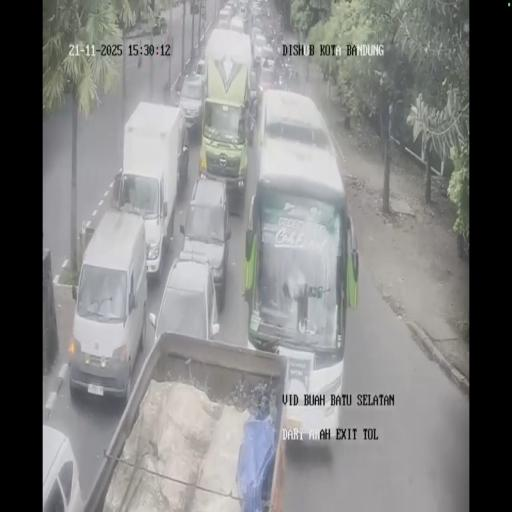car: (178, 176, 231, 308), (248, 68, 260, 130), (192, 58, 208, 88), (249, 0, 265, 23), (260, 44, 275, 68), (250, 26, 264, 50), (230, 14, 244, 34), (218, 14, 230, 29), (239, 3, 246, 13)
truck: (117, 102, 187, 278), (200, 25, 254, 195)
